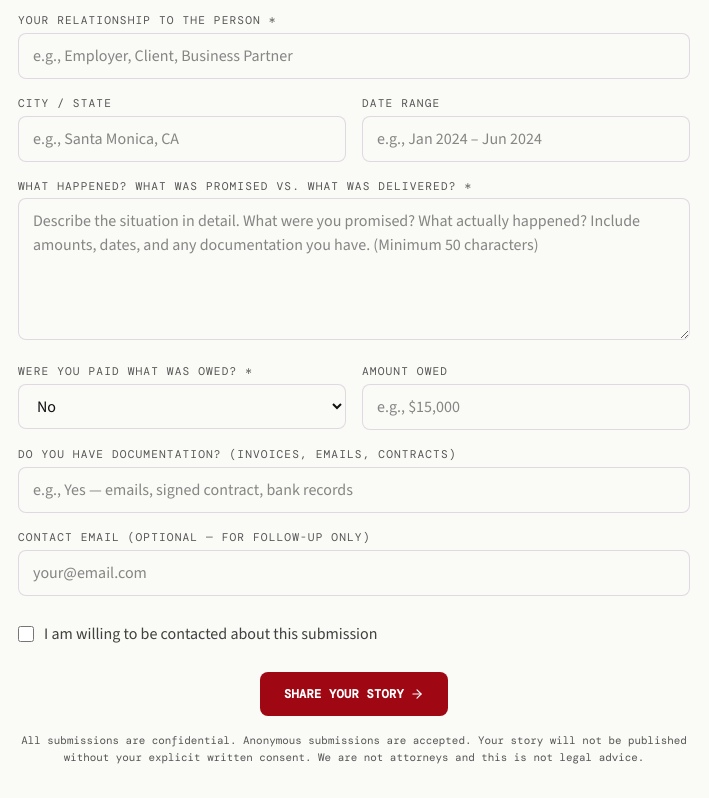
Test: StoryForm › rejects a story under 50 characters and a malformed email
The width and height of the screenshot is (709, 798).
In the field labelled "Your relationship to the person *": x=354, y=56 [18,33,690,79], type "Client"
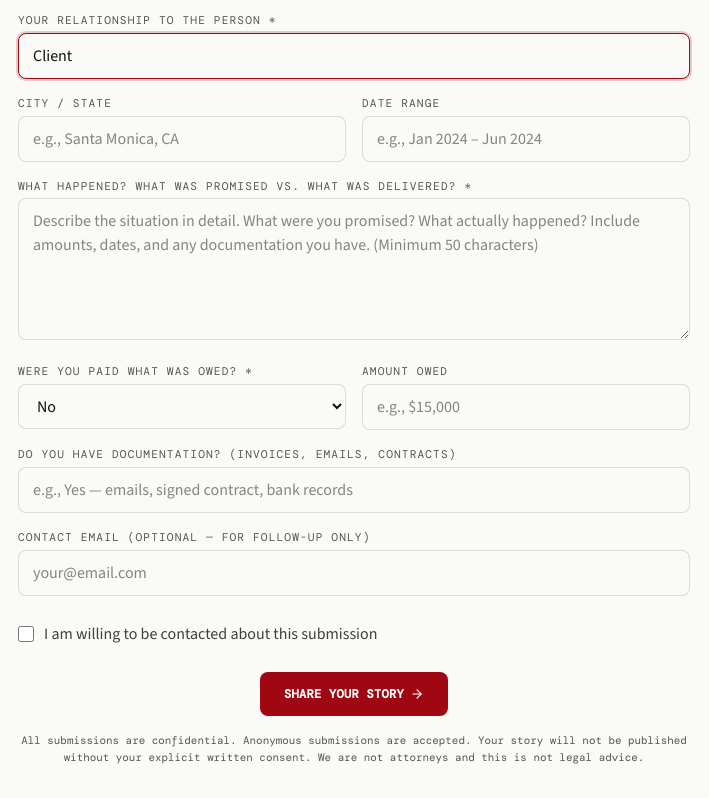
In the text box labelled "What happened? What was promised vs. what was delivered? *": x=354, y=269 [18,198,690,340], type "Too short"
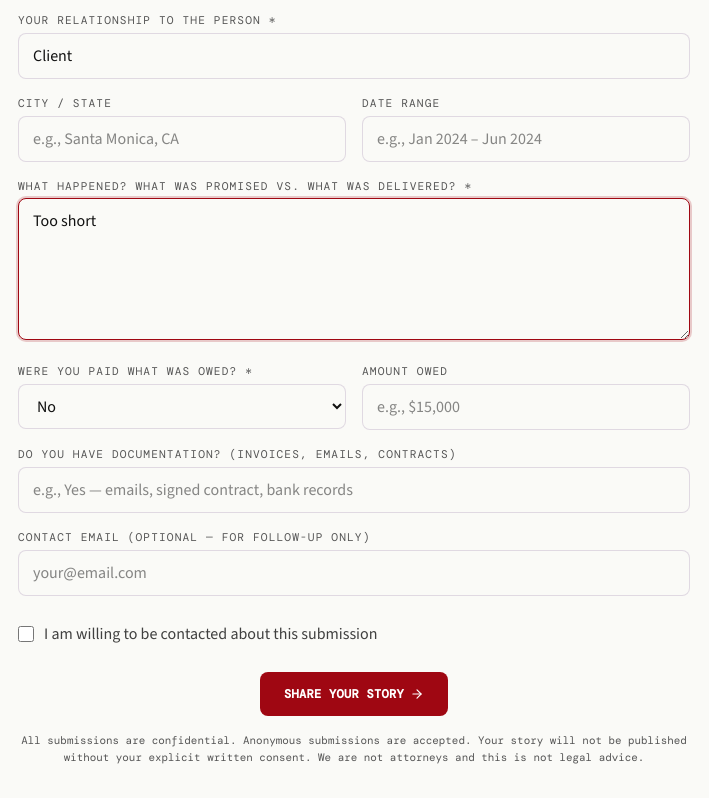
In the field labelled "Contact email (optional — for follow-up only)": x=354, y=573 [18,550,690,596], type "not-an-email"
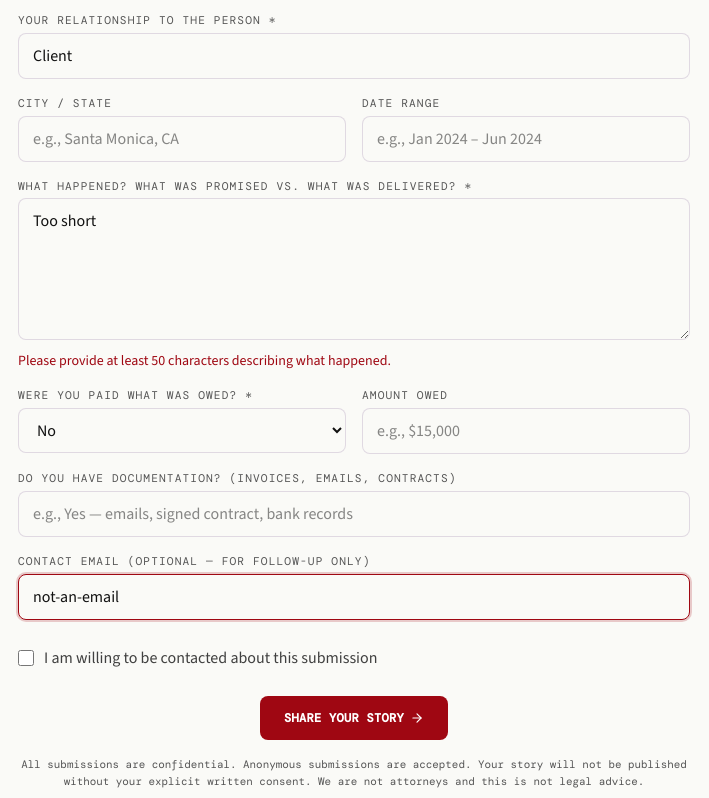
Click the button "Share Your Story": x=354, y=718 [260,696,448,740]
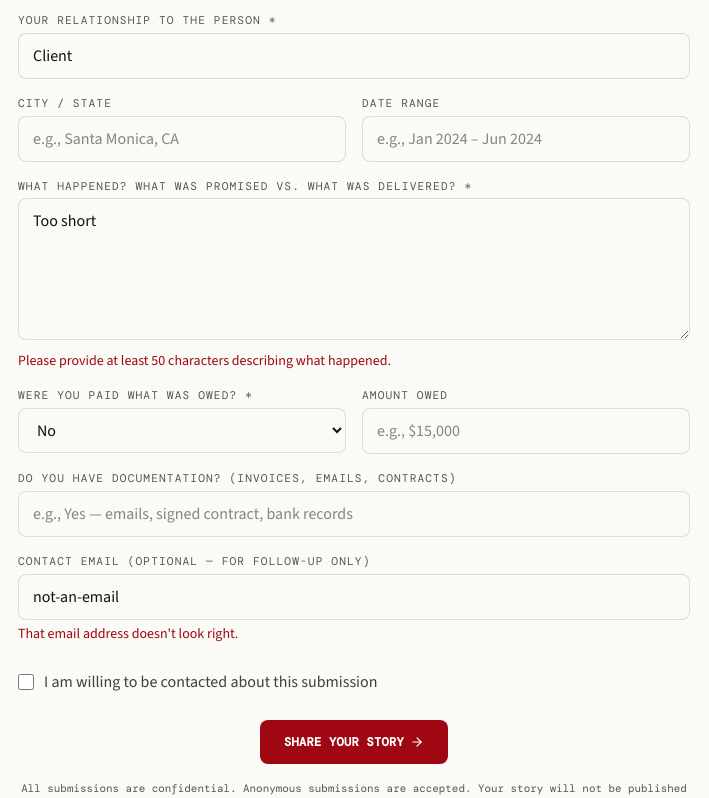
Expected: the text "at least 50 characters" is shown, [18,351,391,370]
Expected: the text "That email address doesn't look right." is shown, [18,624,238,643]
